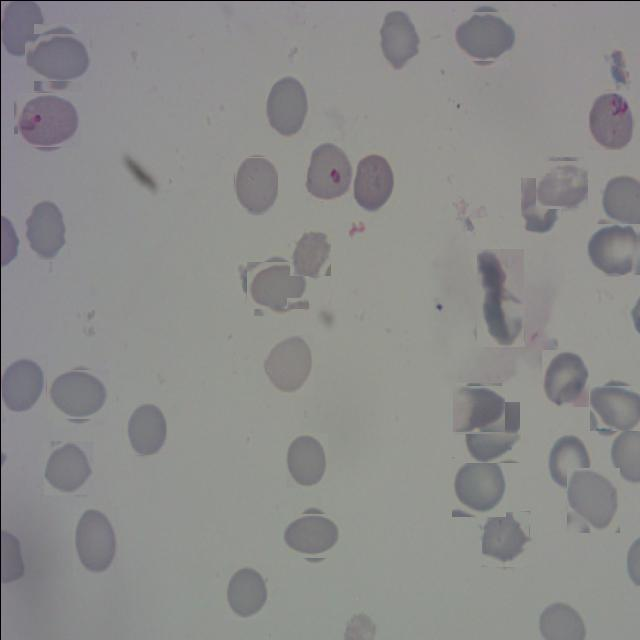leukocyte: (476, 247, 524, 346), (566, 467, 619, 532), (464, 402, 519, 464), (28, 28, 86, 85), (456, 6, 512, 64), (451, 456, 505, 516), (50, 366, 106, 422), (72, 506, 117, 575), (250, 256, 304, 312), (264, 334, 313, 395), (376, 6, 422, 70), (264, 73, 309, 138), (587, 221, 640, 275), (541, 348, 589, 407), (545, 434, 592, 493), (24, 196, 68, 259), (43, 439, 93, 494), (286, 509, 338, 561), (1, 353, 46, 413), (481, 510, 529, 566), (234, 156, 278, 216), (224, 563, 270, 619), (591, 381, 640, 432), (453, 383, 502, 433), (353, 150, 395, 208), (285, 431, 328, 487), (122, 400, 166, 454), (536, 158, 585, 206), (520, 177, 560, 234), (289, 227, 330, 275)
red blood cell: (17, 89, 78, 150), (304, 140, 353, 202), (588, 90, 634, 150)
